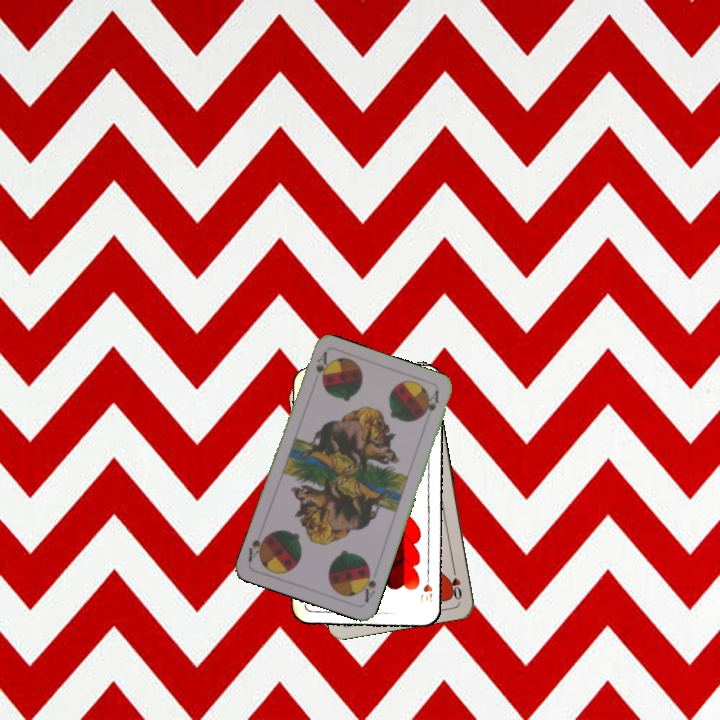H10: (416, 569, 435, 607)
HO: (446, 563, 464, 602)
SA: (358, 564, 379, 605), (312, 348, 330, 383)
